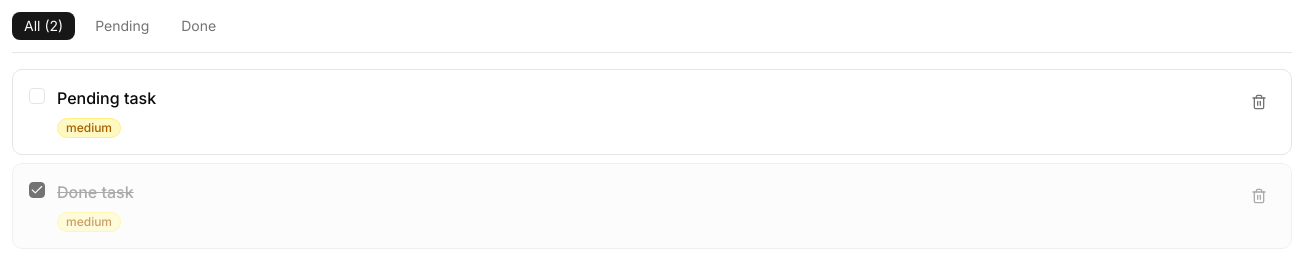
TodoList › filters to show only pending todos when Pending tab is clicked
expect the text "Pending task" is shown: met, box [57, 88, 156, 108]
# Click the Pending filter tab
Click the button "Pending": click(122, 26) [83, 12, 161, 40]
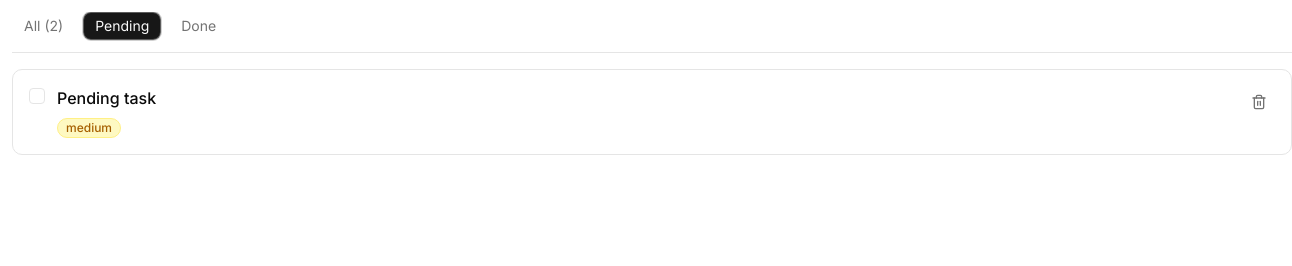
expect the text "Pending task" is shown: met, box [57, 88, 156, 108]
expect the text "Done task" is gone: met
